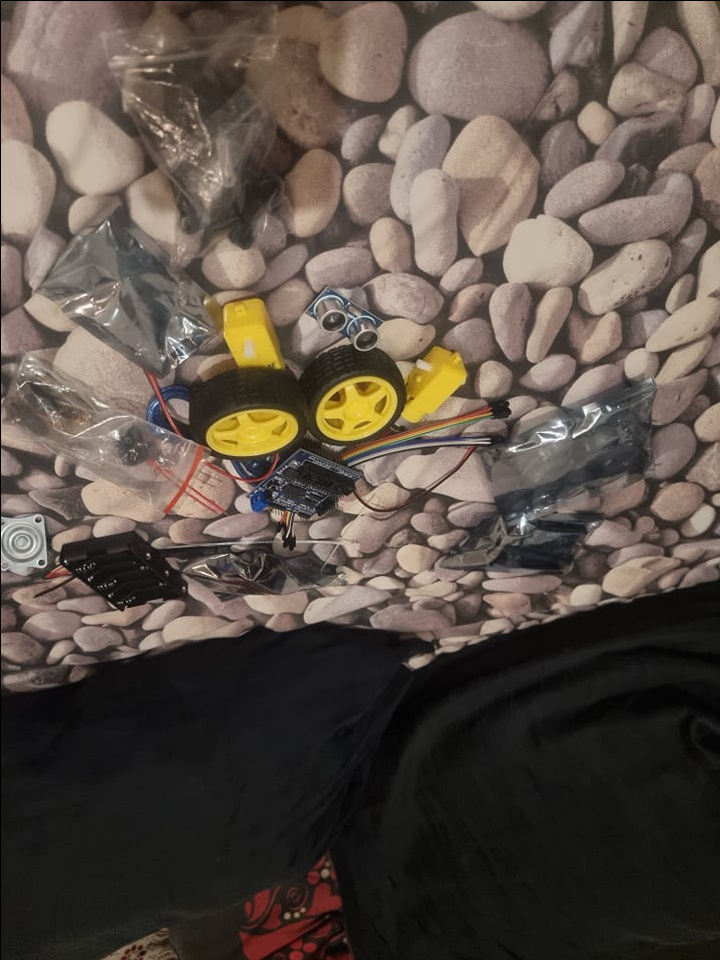5V EXPANSION: (245, 446, 363, 520)
BATTERY BOX: (56, 530, 186, 613)
SENSOR: (301, 284, 384, 350)
